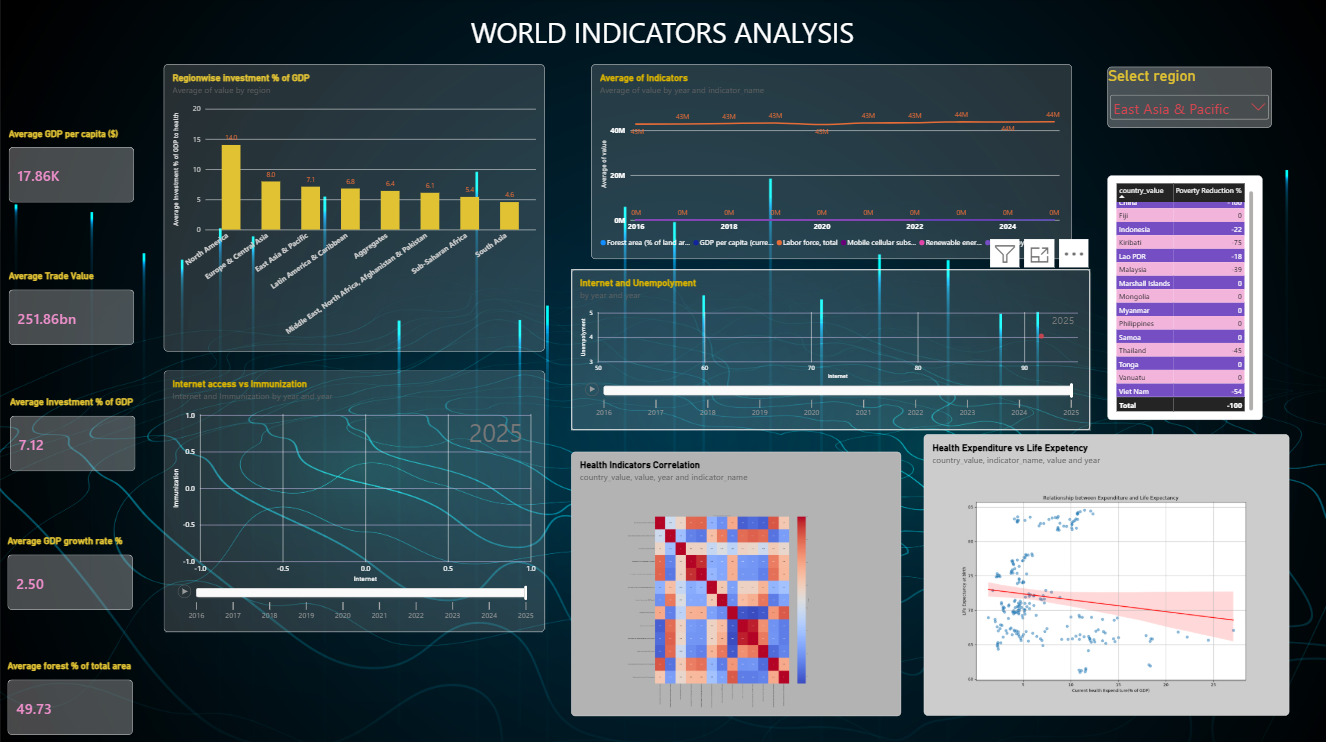

What the dashboard file says about the page in this screenshot:
{"tool":"powerbi","page":{"name":"Page 1","canvas":[2560,1440],"ordinal":0},"visuals":[{"type":"textbox","box":[470,30,1615.8,82.3],"z":0},{"type":"cardVisual","title":"Average GDP per capita ($)","fields":{"Data":["Avg(economic.value)"]},"box":[17.5,250,242.9,144.1],"z":1000},{"type":"cardVisual","title":"Average Trade Value","fields":{"Data":["Avg(trade.value)"]},"box":[17.5,525,242.9,144.1],"z":2000},{"type":"cardVisual","title":"Average Investment % of GDP","fields":{"Data":["Avg(health.value)"]},"box":[20,770,242.9,144.1],"z":3000},{"type":"cardVisual","title":"Average GDP growth rate %","fields":{"Data":["Avg(economic.value)"]},"box":[15,1037.5,242.9,144.1],"z":4000},{"type":"cardVisual","title":"Average forest % of total area","fields":{"Data":["Avg(environment.value)"]},"box":[15,1280,242.9,144.1],"z":5000},{"type":"slicer","title":"Select region","fields":{"Values":["economic.region"]},"box":[2137.9,131.7,317,117.3],"z":6000},{"type":"clusteredColumnChart","title":"Regionwise investment % of GDP","fields":{"Category":["economic.region"],"Y":["Avg(health.value)"]},"box":[315.6,129,735.5,554.4],"z":7000},{"type":"lineChart","title":"Average of Indicators","fields":{"Category":["ForLineChart.year"],"Series":["ForLineChart.indicator_name"],"Y":["Avg(ForLineChart.value)"]},"box":[1141.7,129,927.6,376],"z":8000},{"type":"scatterChart","title":"Internet access vs  Immunization","fields":{"Category":["ForScatterPlot.year"],"Play":["ForScatterPlot.year"],"X":["Measure Table.Internet"],"Y":["Measure Table.Immunization"]},"box":[315.6,719,735.5,505],"z":9000},{"type":"scatterChart","fields":{"Category":["ForScatterPlot.year"],"Play":["ForScatterPlot.year"],"X":["Measure Table.Internet"],"Y":["Measure Table.Unempolyment"]},"box":[1103.3,524.2,1001.7,310.1],"z":10000},{"type":"tableEx","fields":{"Values":["property.country_value","Measure Table.Poverty Reduction %"]},"box":[2137.9,343.1,299.1,472],"z":11000},{"type":"pythonVisual","title":"Health Indicators Correlation","fields":{"Values":["health.country_value","health.value","health.year","health.indicator_name"]},"box":[1103.3,875.5,636.7,510.5],"z":11001},{"type":"pythonVisual","title":"Health Expenditure vs Life Expetency","fields":{"Values":["health.country_value","health.indicator_name","health.value","health.year"]},"box":[1783.9,842.5,705.3,543.4],"z":11002}]}

Visuals, with their boxes in screenshot pixels (x1, y1, x2, y2), scaled from the page's 2560x1440 canvas onto the 1326x742 screenshot:
textbox: (left=243, top=15, right=1080, bottom=58)
"Average GDP per capita ($)" cardVisual: (left=9, top=129, right=135, bottom=203)
"Average Trade Value" cardVisual: (left=9, top=271, right=135, bottom=345)
"Average Investment % of GDP" cardVisual: (left=10, top=397, right=136, bottom=471)
"Average GDP growth rate %" cardVisual: (left=8, top=535, right=134, bottom=609)
"Average forest % of total area" cardVisual: (left=8, top=660, right=134, bottom=734)
"Select region" slicer: (left=1107, top=68, right=1272, bottom=128)
"Regionwise investment % of GDP" clusteredColumnChart: (left=163, top=66, right=544, bottom=352)
"Average of Indicators" lineChart: (left=591, top=66, right=1072, bottom=260)
"Internet access vs  Immunization" scatterChart: (left=163, top=370, right=544, bottom=631)
scatterChart - ForScatterPlot.year x ForScatterPlot.year: (left=571, top=270, right=1090, bottom=430)
tableEx - property.country_value x Measure Table.Poverty Reduction %: (left=1107, top=177, right=1262, bottom=420)
"Health Indicators Correlation" pythonVisual: (left=571, top=451, right=901, bottom=714)
"Health Expenditure vs Life Expetency" pythonVisual: (left=924, top=434, right=1289, bottom=714)
